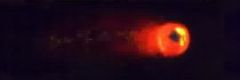keyhole: (166, 26, 184, 45)
